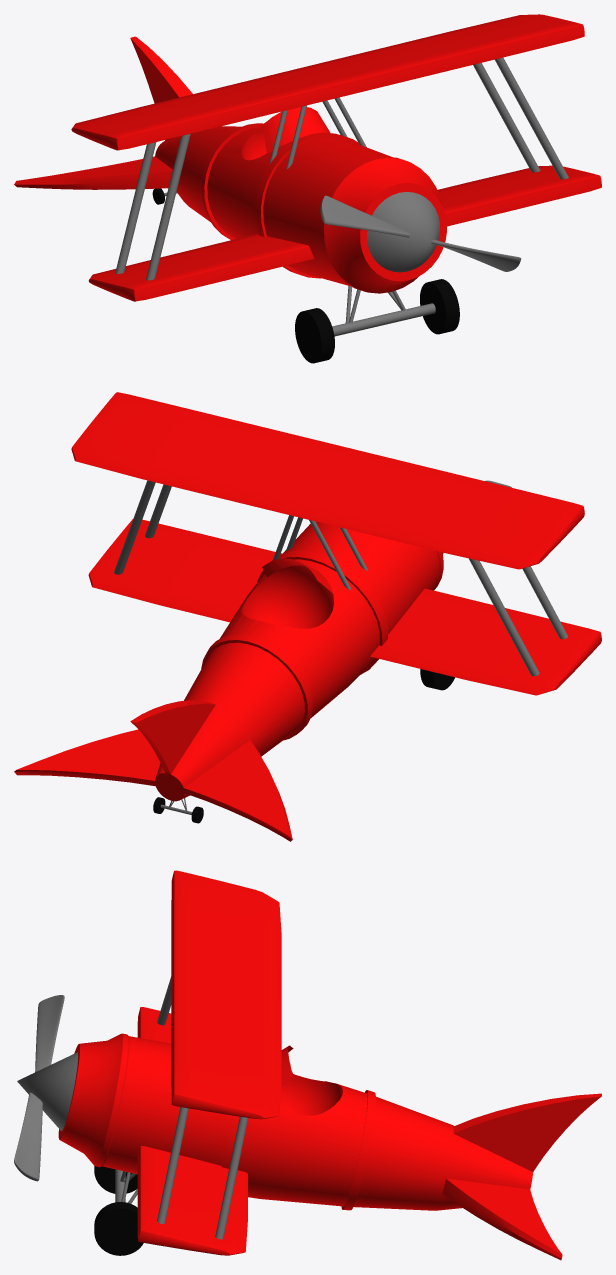
File: Metal plane 2.fbx
3 views of the same model, one above another, from view 1: azimuth 30°, elevation 25°; view 2: azimuth 150°, elevation 25°; view 3: azimuth 270°, elevation 25° (orthographic).
Parts seen in each view (by area): view 1: Plane.034; view 2: Plane.034; view 3: Plane.034.
Boxes of the visible parts, <box> form: Plane.034: <box>14,14,601,363</box>; Plane.034: <box>14,392,601,841</box>; Plane.034: <box>14,870,601,1260</box>.
Bounding box in the file's own units: 84.13 × 42.04 × 92.81.
